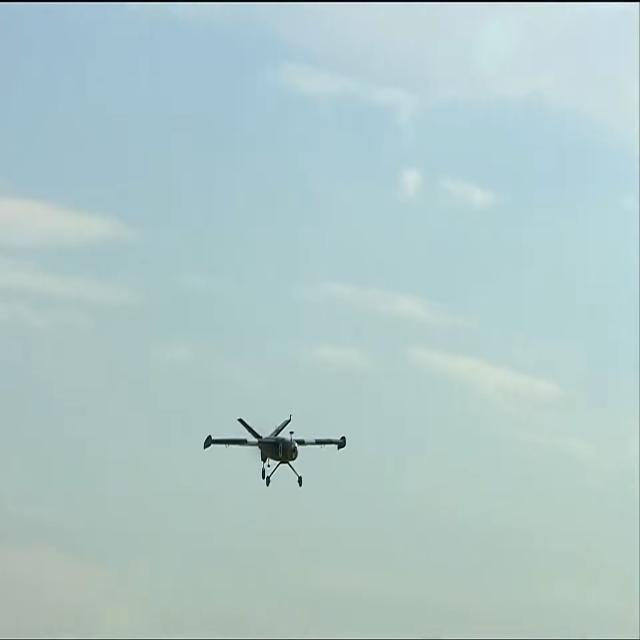iha: (201, 449, 346, 455)
